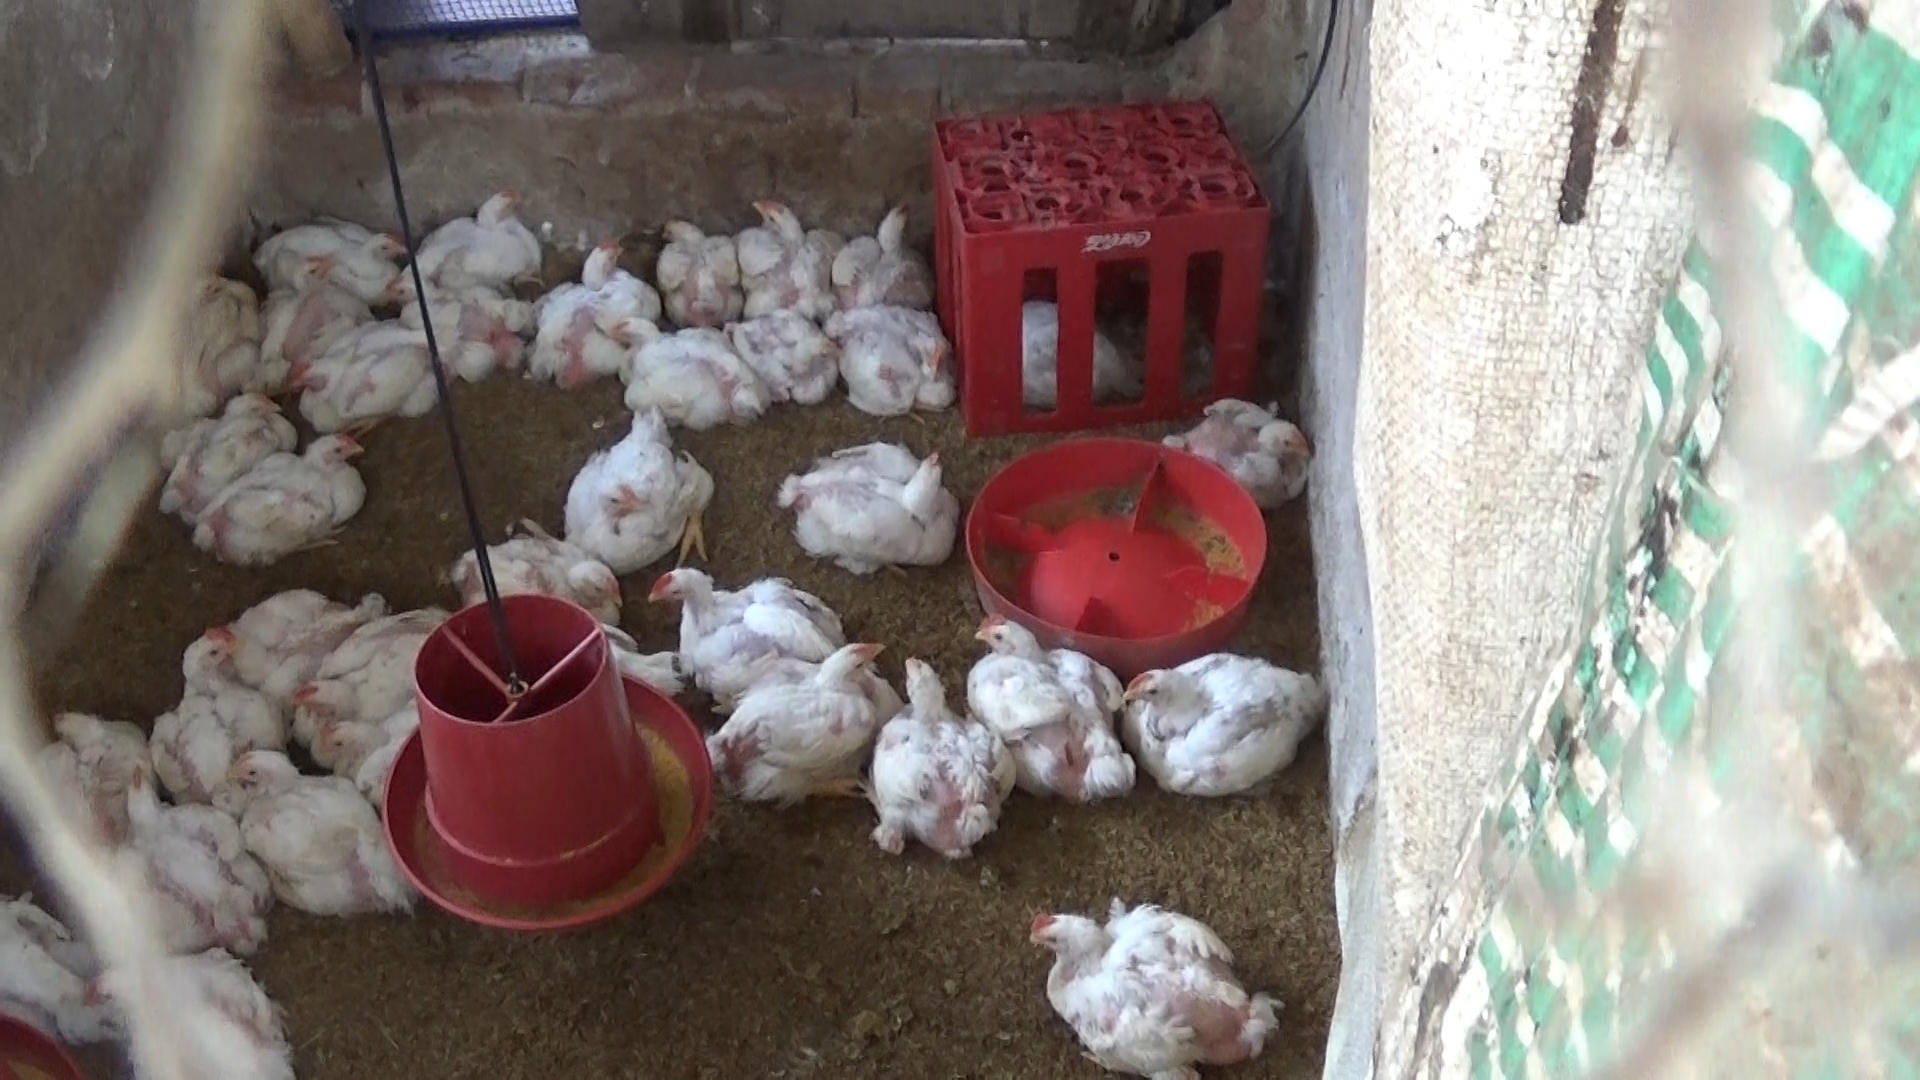Pollos: (1025, 891, 1280, 1069), (688, 632, 913, 812), (960, 612, 1137, 812), (868, 649, 1015, 866), (231, 748, 417, 916), (1121, 655, 1327, 803), (640, 560, 852, 703), (113, 766, 268, 961), (779, 431, 971, 567), (191, 427, 378, 564), (135, 377, 293, 529), (152, 622, 286, 794), (293, 603, 456, 742), (566, 413, 709, 567), (456, 531, 640, 646), (525, 237, 655, 393), (278, 323, 458, 435), (255, 253, 373, 389), (607, 314, 757, 419), (1180, 396, 1331, 498), (392, 266, 538, 368), (225, 578, 363, 684), (836, 301, 963, 413), (171, 264, 255, 429), (411, 183, 545, 282), (738, 193, 837, 314), (831, 196, 932, 314), (255, 214, 397, 294), (40, 708, 154, 800), (655, 208, 742, 326), (735, 311, 836, 406)
